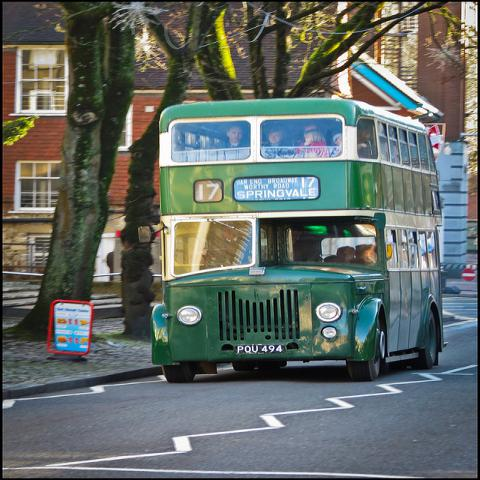bus: (154, 99, 451, 386)
